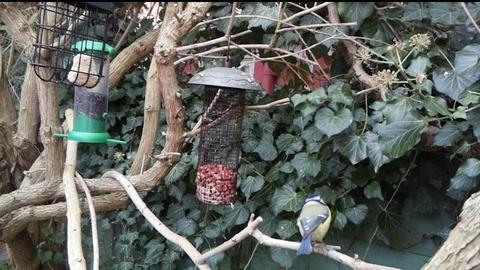blue tit: (296, 194, 332, 255)
